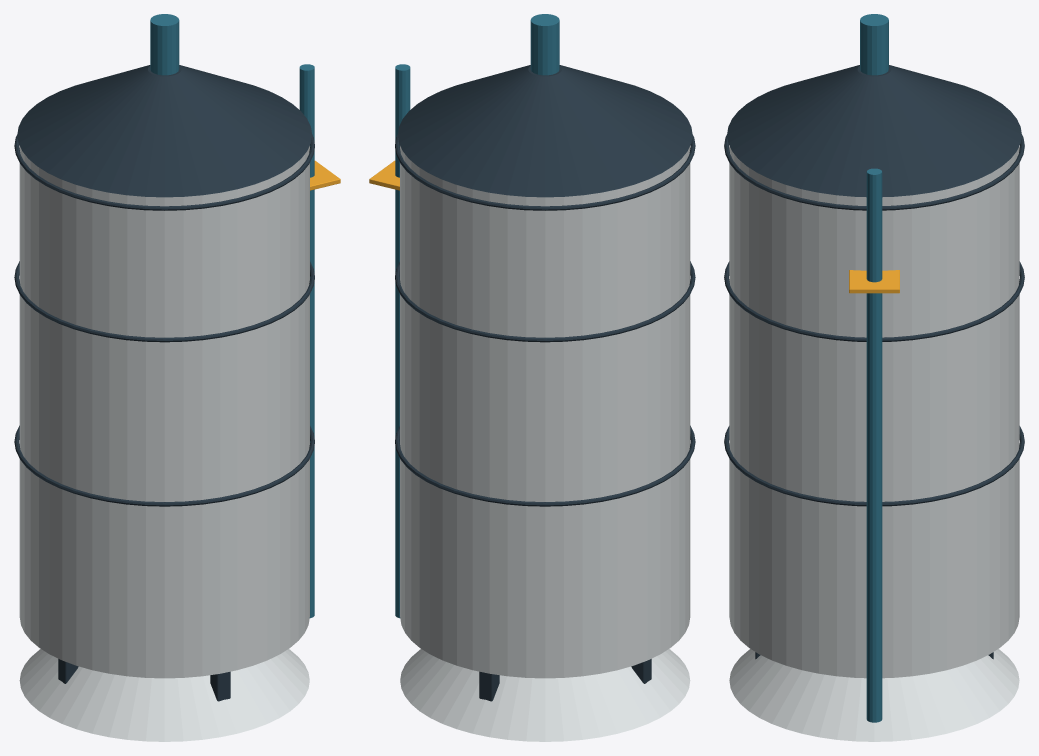
Rendered from silo-high.glb.
The picture shows the model from 3 angles, left to right: view 1: azimuth 30°, elevation 25°; view 2: azimuth 150°, elevation 25°; view 3: azimuth 270°, elevation 25°; orthographic projection.
Parts seen in each view (by area): view 1: silo_body, silo_roof, silo_hopper, silo_pipe, 环体.012, 环体.013, 环体.014, silo_vent; view 2: silo_body, silo_roof, silo_hopper, silo_pipe, 环体.012, 环体.013, 环体.014, silo_vent; view 3: silo_body, silo_roof, silo_hopper, silo_pipe, 环体.012, 环体.013, 环体.014, silo_vent, silo_platform.
Part boxes in pixels (box(x1,y1,x2,y2)): silo_body: box(19, 146, 309, 678); silo_roof: box(17, 65, 312, 197); silo_hopper: box(19, 649, 309, 741); silo_pipe: box(299, 64, 314, 618); 环体.012: box(14, 425, 314, 506); 环体.013: box(14, 261, 314, 342); 环体.014: box(14, 134, 314, 210); silo_vent: box(150, 14, 179, 75); silo_body: box(400, 146, 690, 678); silo_roof: box(397, 65, 692, 197); silo_hopper: box(400, 649, 690, 741); silo_pipe: box(395, 64, 410, 618); 环体.012: box(395, 425, 695, 506); 环体.013: box(395, 261, 695, 342); 环体.014: box(395, 134, 695, 210); silo_vent: box(530, 14, 559, 75); silo_body: box(729, 146, 1019, 678); silo_roof: box(727, 65, 1021, 197); silo_hopper: box(729, 649, 1019, 741); silo_pipe: box(866, 168, 882, 722); 环体.012: box(724, 426, 1024, 506); 环体.013: box(724, 261, 1024, 341); 环体.014: box(724, 135, 1024, 210); silo_vent: box(860, 14, 888, 75); silo_platform: box(849, 270, 899, 293).
Size of the model in its own units: 14.02 by 30.55 by 12.44.
